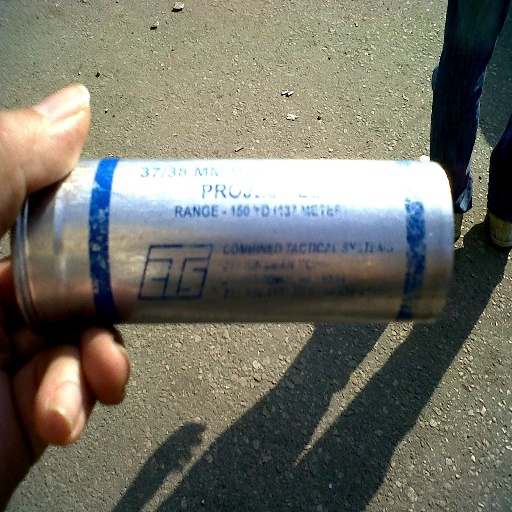hand: (0, 81, 131, 511)
